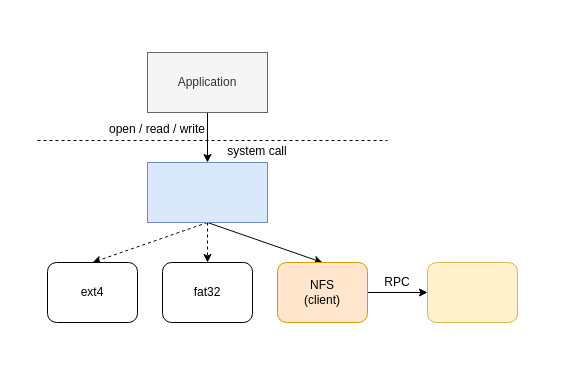
Some shapes in this 584 by 384 pixel diagram are drawn without their labels. The box of each missing label's shape, as (x1, y1, x2, y2) in pixels:
NFS server: (426, 262, 518, 322)
VFS: (146, 162, 268, 222)
